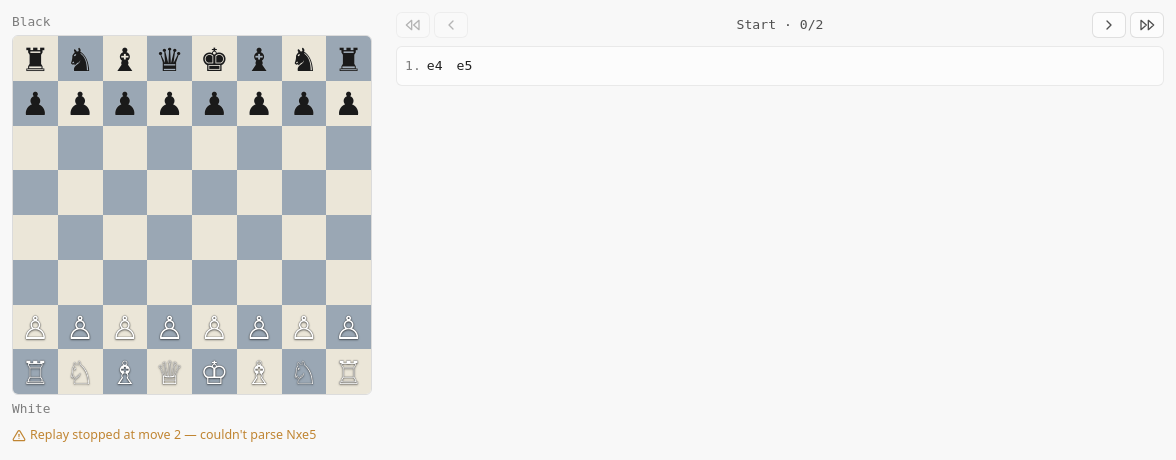
it: GameViewer › shows the truncation warning and stops at the last good position
expect the message shows "Replay stopped": met, box [30,426,174,443]
expect the message shows "Nxe5": met, box [286,426,316,443]
Note: Only the two applied plies remain navigable.
What coordinates should you click on to do the following:
click the button named "Last move"
I would click on:
 (1147, 25)
Its box is [1130,12,1164,38].
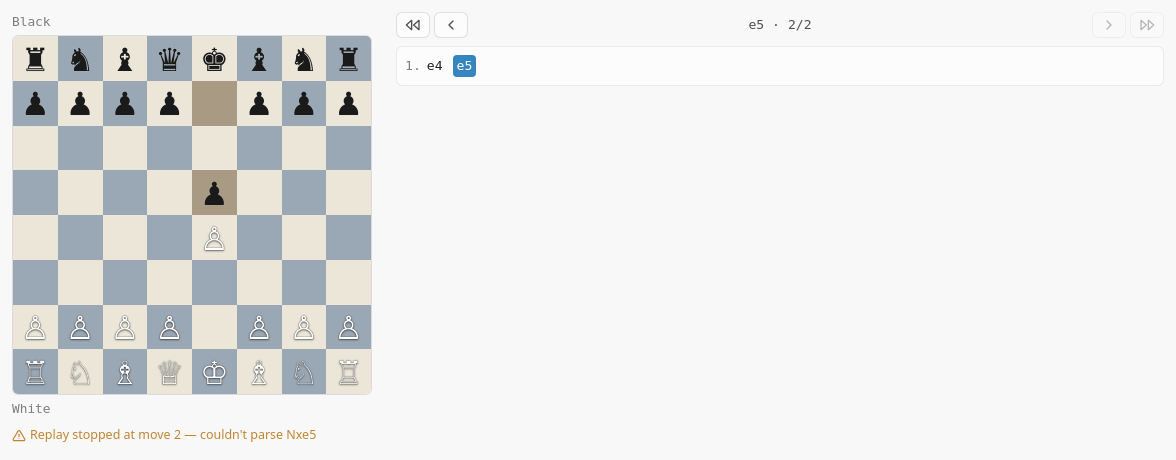
expect the button named "Next move" is disabled: met, box [1092,12,1126,38]
